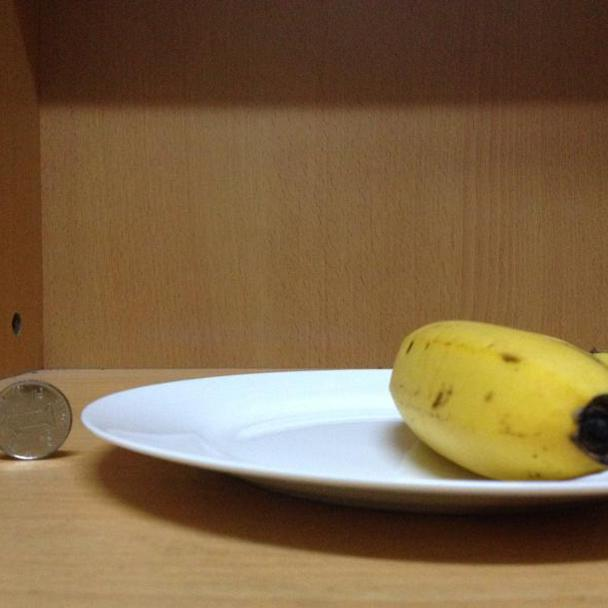banana: (386, 309, 608, 483)
